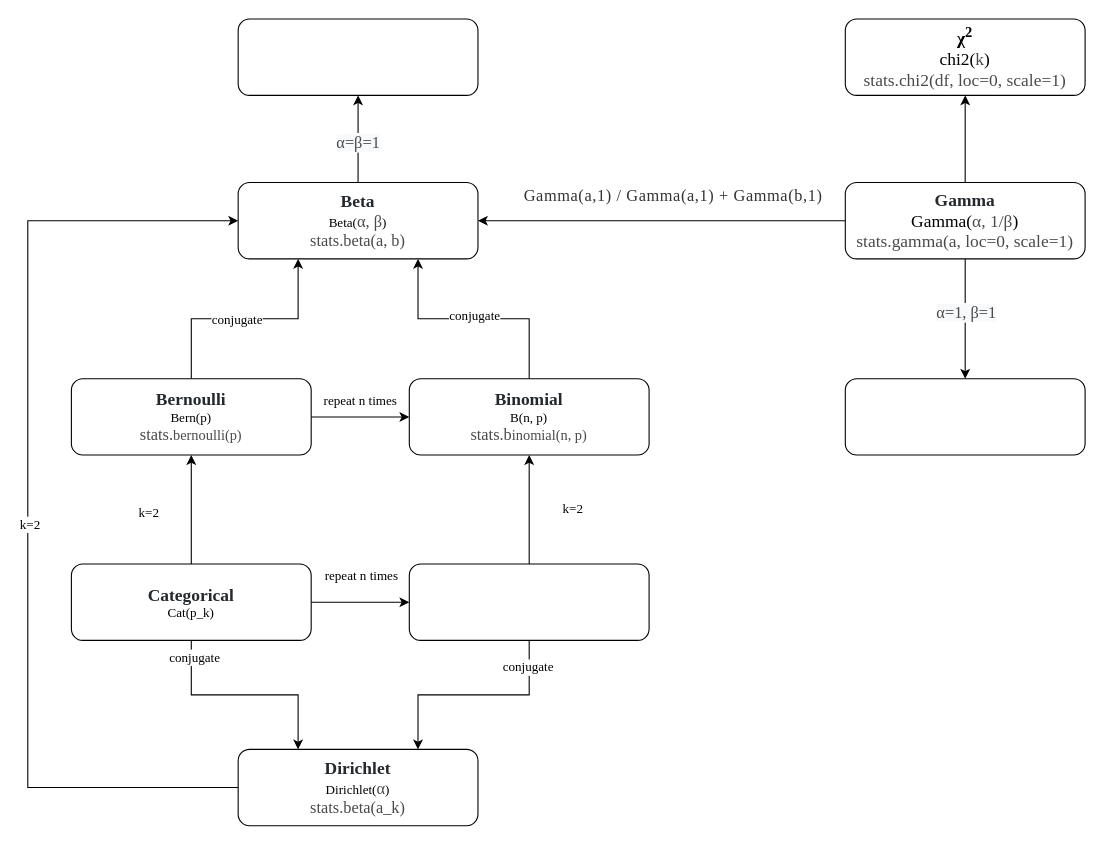
This 1104x845 diagram has some shape labels left out. Here are the shapes that lost their labels. From the top down, the centre of each, then its label:
the point at 357,56: Uniform U(0, 1)
the point at 964,416: Exponential Expon( α, 1/β ) stats.expon(loc=0, scale=1)
the point at 528,601: Multinomial M(n, p_k) stats. multinomial(n, p_k)
